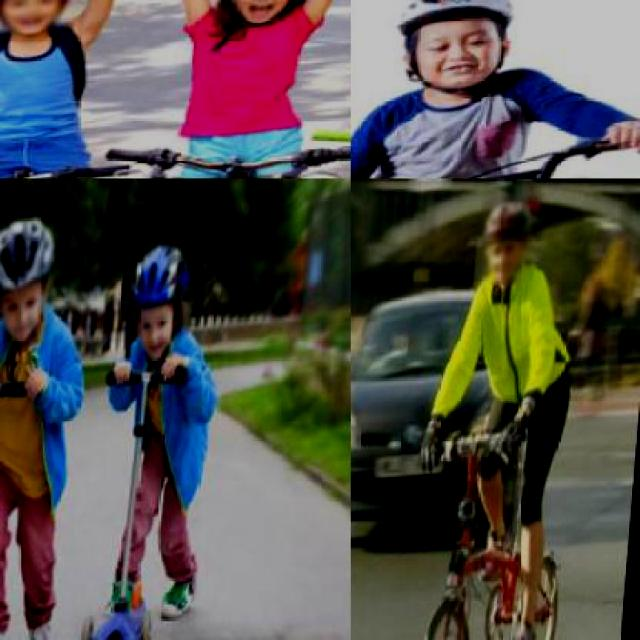With Helmet: (372, 0, 542, 108), (122, 243, 200, 371), (0, 212, 66, 356), (476, 201, 541, 296), (0, 0, 86, 40), (215, 0, 321, 32)
